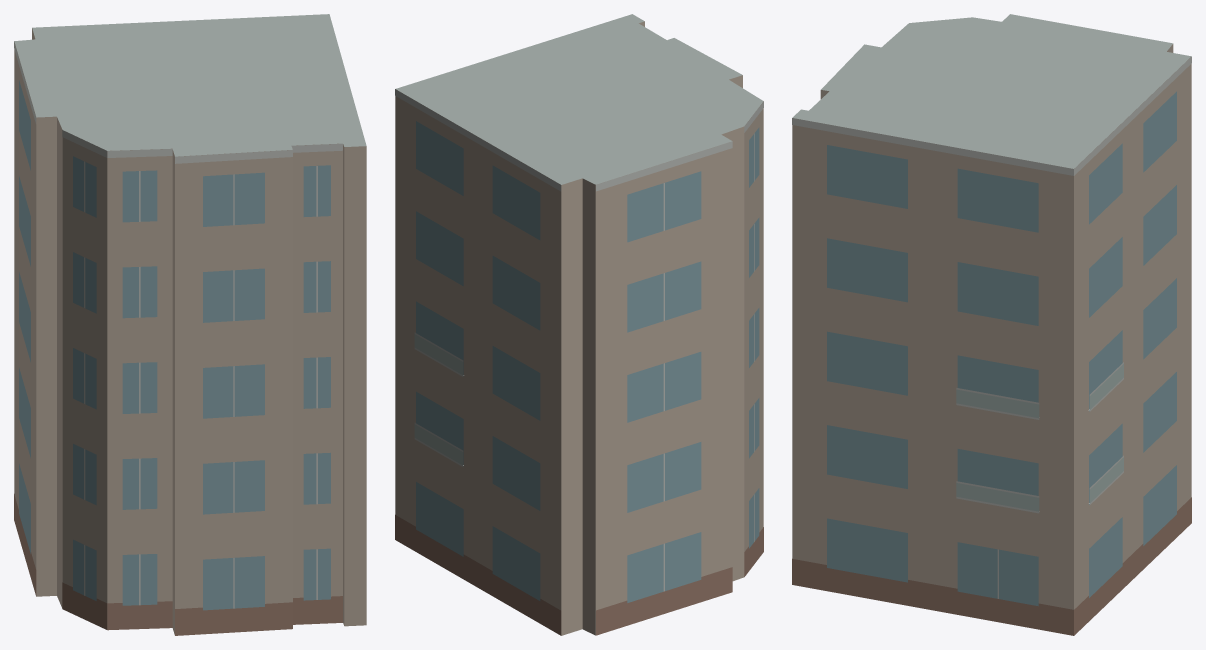
Rendered from survey-upis-32980585.glb.
3 renders of one model, left to right at view 1: azimuth 30°, elevation 25°; view 2: azimuth 150°, elevation 25°; view 3: azimuth 270°, elevation 25°, orthographic. The views are drawn at different scales.
Parts seen in each view (by area): view 1: survey-upis-32980585.tmp; view 2: survey-upis-32980585.tmp; view 3: survey-upis-32980585.tmp.
Part boxes in pixels (left/top/right/bottom): survey-upis-32980585.tmp: left=14, top=14, right=366, bottom=635; survey-upis-32980585.tmp: left=395, top=14, right=763, bottom=635; survey-upis-32980585.tmp: left=792, top=14, right=1191, bottom=635.
Size of the model in its own units: 11.5 by 16.15 by 12.53.
